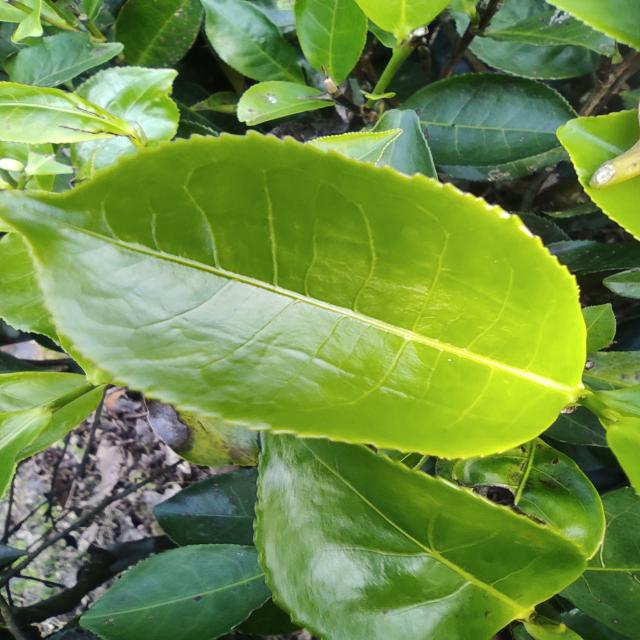Category B(2-4 days): (2, 126, 604, 473)
